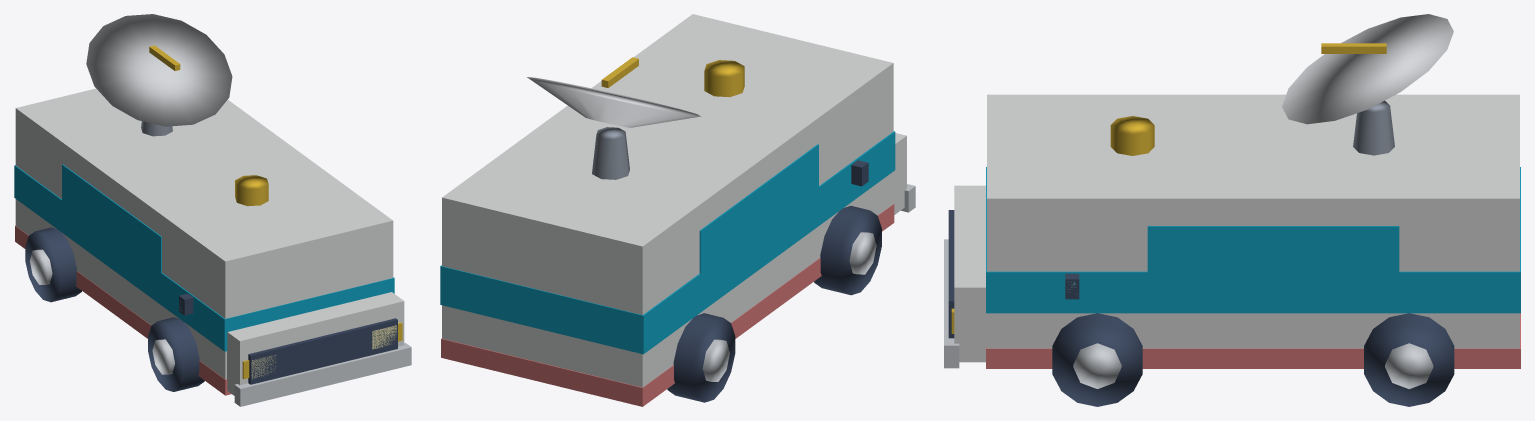
The model's file is news-van.glb.
3 renders of one model, left to right at view 1: azimuth 30°, elevation 25°; view 2: azimuth 150°, elevation 25°; view 3: azimuth 270°, elevation 25°, orthographic. The views are drawn at different scales.
Parts seen in each view (by area): view 1: Root; view 2: Root; view 3: Root.
Part boxes in pixels (x1,y1,x2,y2): Root: (14, 14, 411, 406); Root: (440, 14, 915, 406); Root: (944, 14, 1520, 406).
Size of the model in its own units: 3.03 by 3.44 by 5.74.
